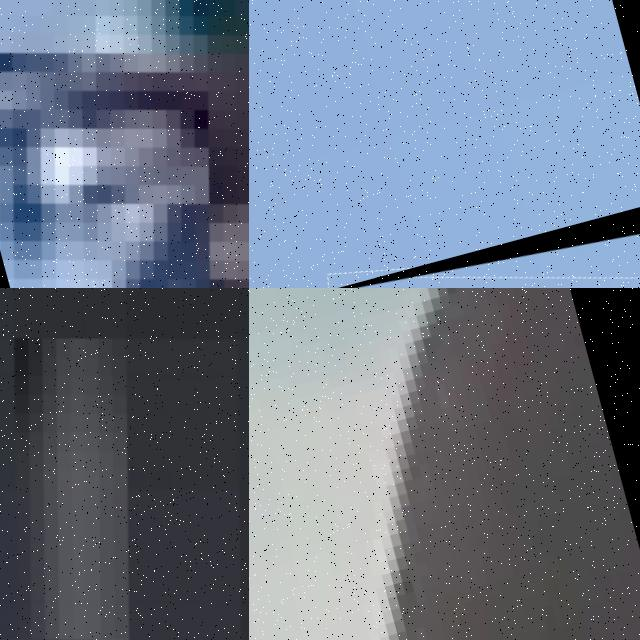drone: (0, 288, 249, 640), (0, 0, 249, 288), (290, 199, 640, 288)
